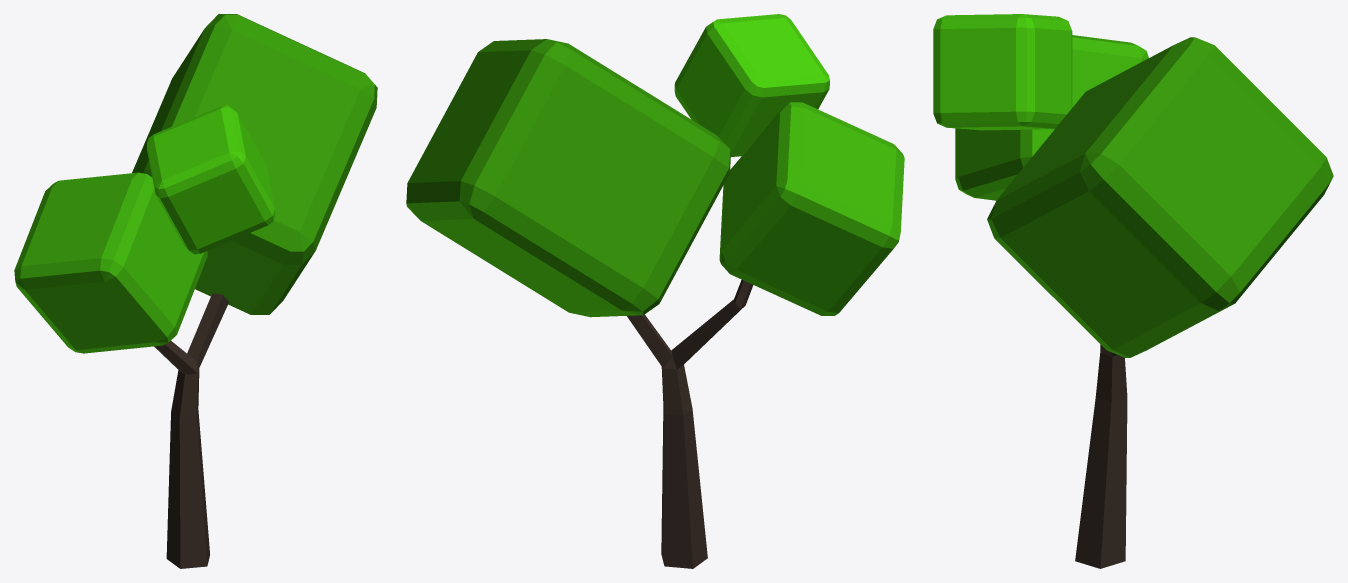
File: treeSet_green2.dae
3 renders of one model, left to right at view 1: azimuth 30°, elevation 25°; view 2: azimuth 150°, elevation 25°; view 3: azimuth 270°, elevation 25°, orthographic. The views are drawn at different scales.
Parts seen in each view (by area): view 1: leaves (×3), bark; view 2: leaves (×3), bark; view 3: leaves (×3), bark.
Part boxes in pixels (box(x1,y1,x2,y2)): leaves (×3): box(14, 14, 377, 353); bark: box(154, 293, 228, 568); leaves (×3): box(406, 14, 904, 317); bark: box(627, 280, 753, 568); leaves (×3): box(933, 14, 1333, 357); bark: box(1075, 344, 1127, 568).
Size of the model in its own units: 760 by 914 by 589.
Materials: 1 (1 with a texture image).
